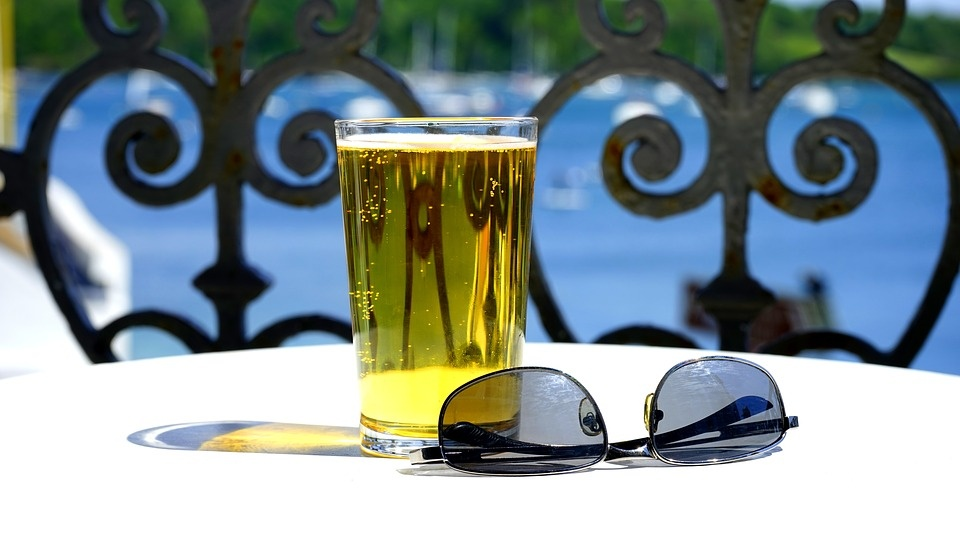glassBeer: (338, 112, 542, 447)
